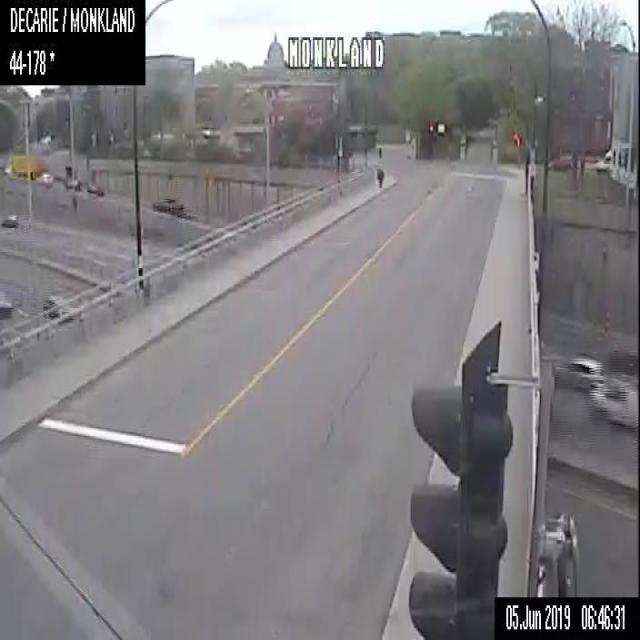pedestrian: (376, 144, 384, 187)
vehicle: (590, 369, 639, 430), (550, 352, 604, 390), (42, 293, 83, 323), (4, 151, 44, 180), (151, 194, 184, 214), (547, 155, 577, 173), (0, 212, 21, 229), (0, 291, 12, 320), (86, 179, 104, 196), (596, 148, 610, 169)
